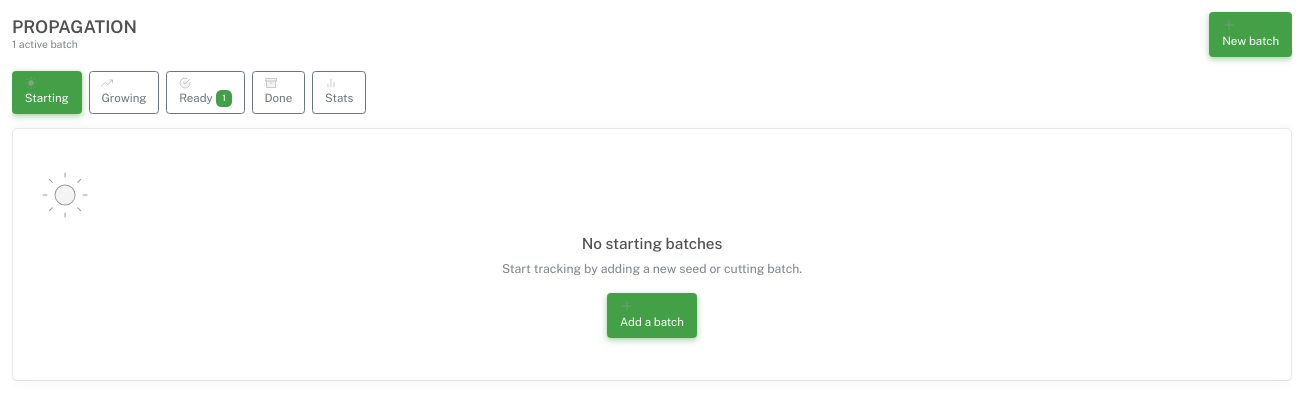
it: PropagationPage › shows Ready column with promote button for ready props
Switch to Ready column
What coordinates should you click on to do the following:
click the button "Ready 1"
I would click on:
 (206, 93)
Its box is x1=166 y1=71 x2=245 y2=114.
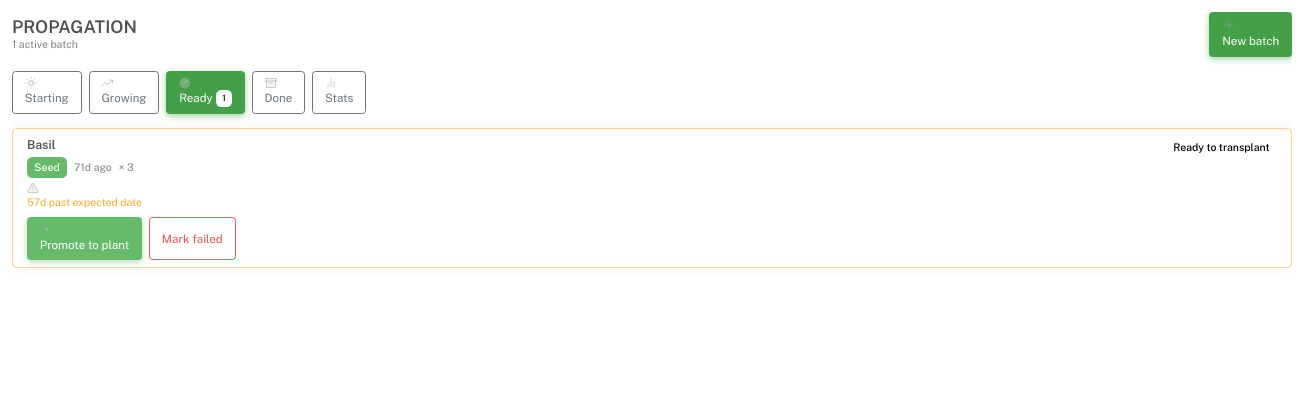
Expected: the button "Promote to plant" is shown, x1=27 y1=217 x2=142 y2=260
